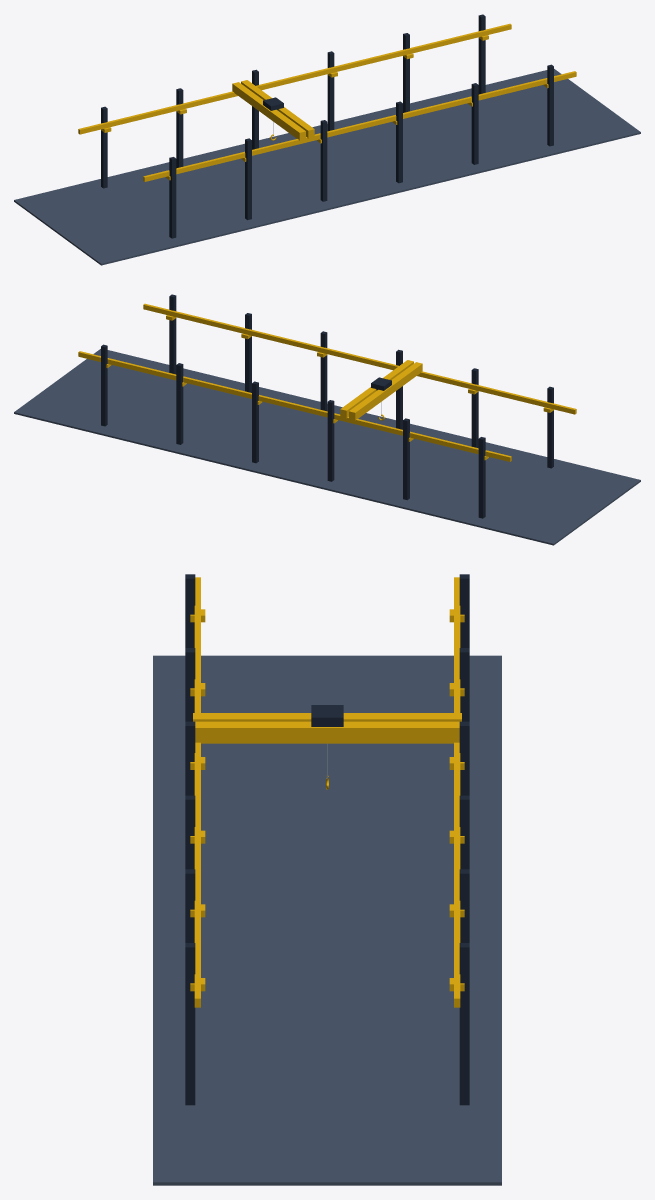
File: factory_infrastructure.glb
3 renders of one model, top to bottom at view 1: azimuth 30°, elevation 25°; view 2: azimuth 150°, elevation 25°; view 3: azimuth 270°, elevation 25°, orthographic. The views are drawn at different scales.
Parts seen in each view (by area): view 1: FactoryInfrastructure, OverheadCrane; view 2: FactoryInfrastructure, OverheadCrane; view 3: FactoryInfrastructure, OverheadCrane.
Part boxes in pixels (<box>): FactoryInfrastructure: <box>14,14,640,265</box>; OverheadCrane: <box>232,80,314,140</box>; FactoryInfrastructure: <box>14,294,640,545</box>; OverheadCrane: <box>340,360,422,420</box>; FactoryInfrastructure: <box>153,574,501,1185</box>; OverheadCrane: <box>193,705,461,789</box>.
Size of the model in its own units: 100 by 14.3 by 28.
